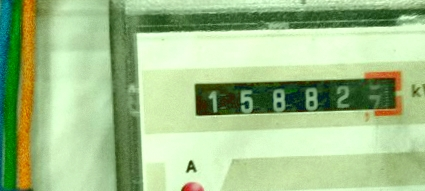1: (206, 85, 220, 114)
2: (333, 83, 351, 109)
5: (237, 86, 255, 117)
7: (367, 91, 380, 108)
8: (269, 85, 286, 114), (302, 84, 319, 112)
screen: (182, 61, 409, 128)
